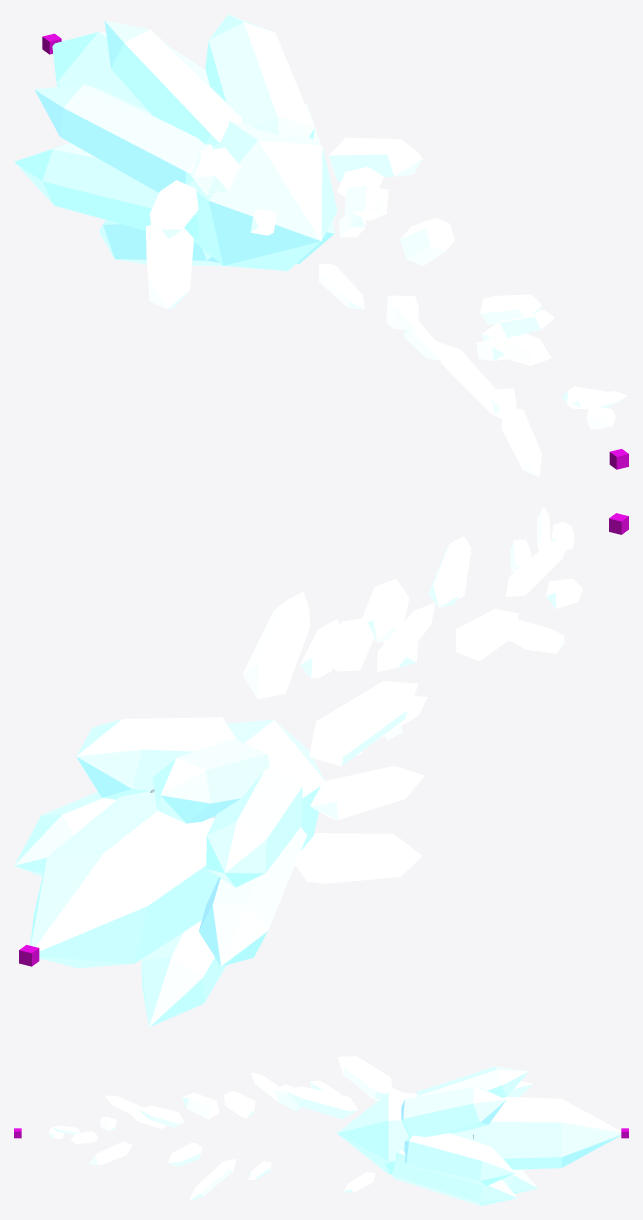
File: IceBlast.fbx
The picture shows the model from 3 angles, top to bottom: view 1: azimuth 30°, elevation 25°; view 2: azimuth 150°, elevation 25°; view 3: azimuth 270°, elevation 25°; orthographic projection. The views are drawn at different scales.
Visible parts, largest first — view 1: Crystal, Shards; view 2: Crystal, Shards; view 3: Crystal, Shards.
Boxes of the visible parts, <box> form: Crystal: <box>14,14,337,270</box>; Shards: <box>146,137,627,477</box>; Crystal: <box>14,717,324,1027</box>; Shards: <box>242,506,582,883</box>; Crystal: <box>337,1066,621,1205</box>; Shards: <box>49,1056,403,1200</box>.
Size of the model in its own units: 2.12 by 1.88 by 8.1.
